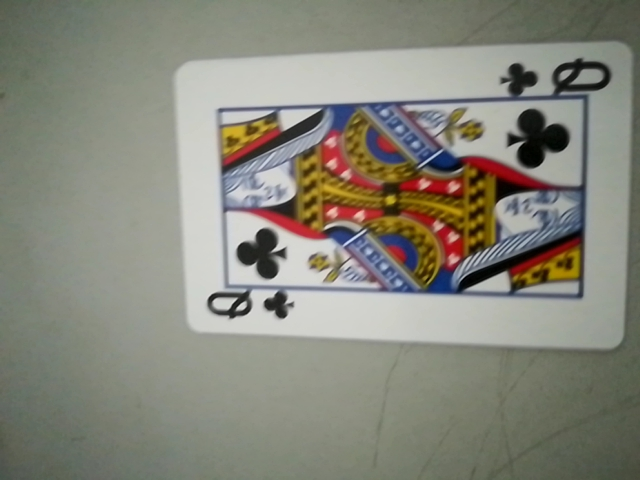mh q: (500, 55, 615, 99), (200, 284, 297, 330)
